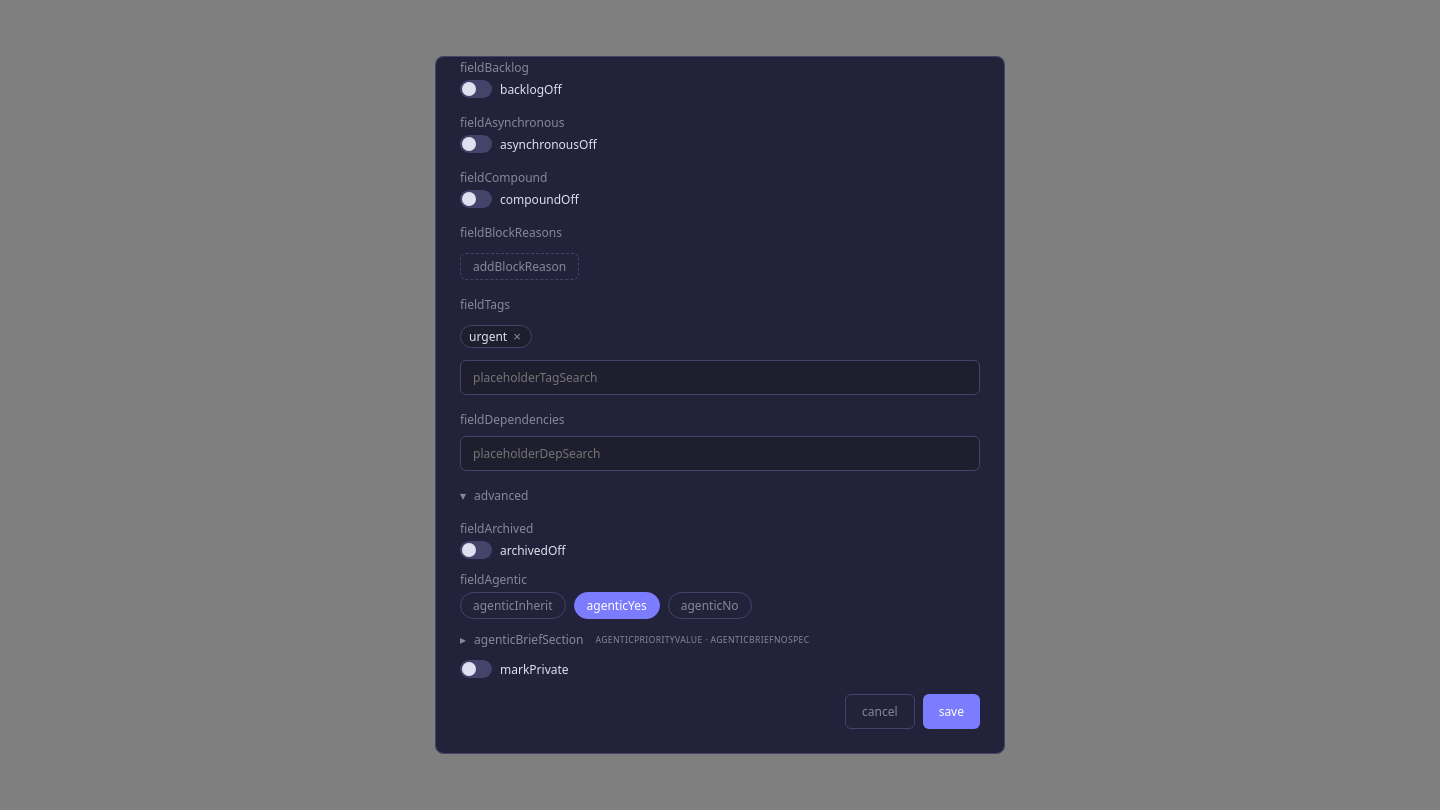
Test: TaskEditorModal — the agentic brief › starts collapsed, its header saying the priority and whether a Spec is written
(page scrolled)
Expected: the field labelled "agenticSpec" is not shown
Click the button "agenticBriefSection". click: (635, 640)
box: [460,631,810,648]
(page scrolled)
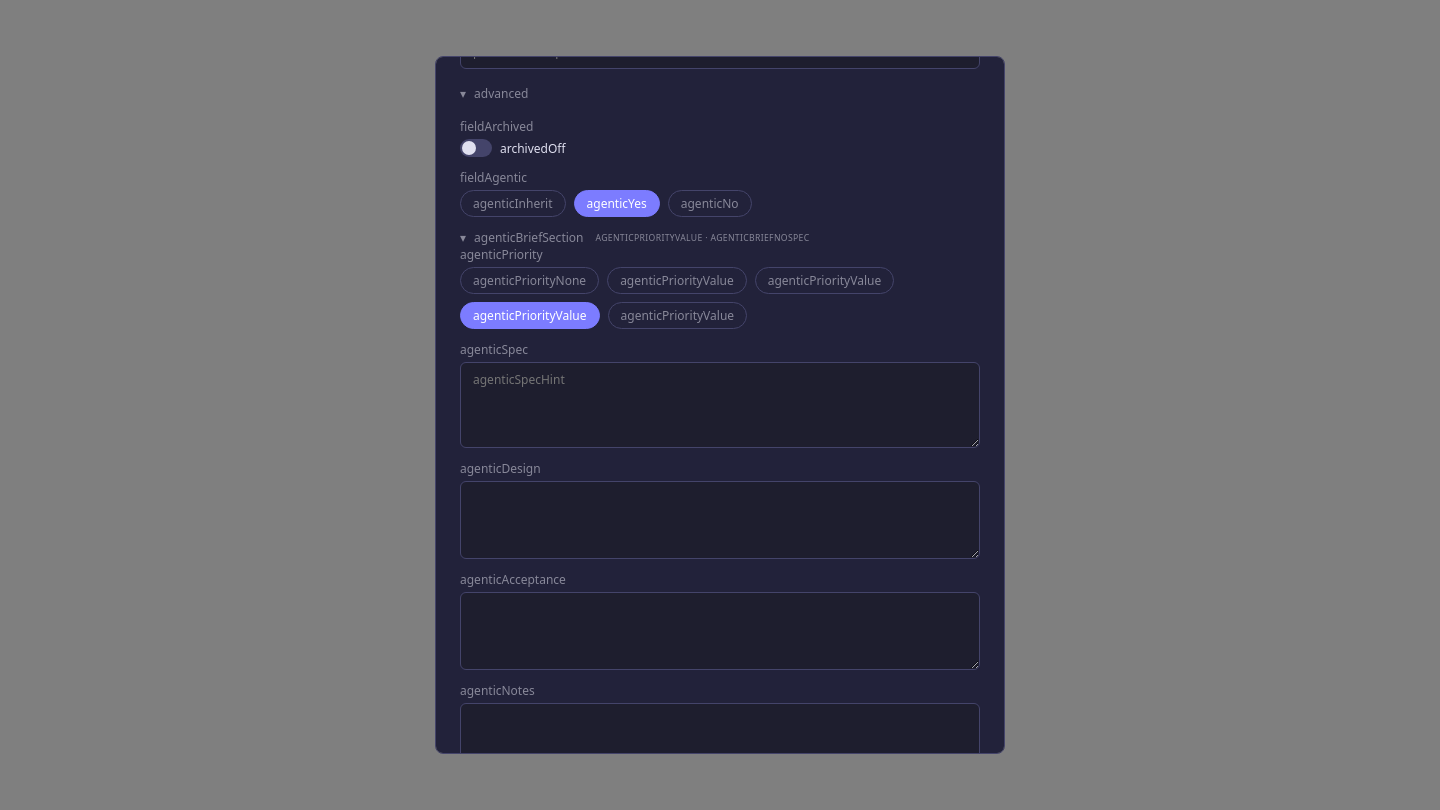
Expected: the button "agenticBriefSection" is expanded, [460,229,810,246]
Expected: the text box labelled "agenticSpec" is shown, [460,362,980,448]
